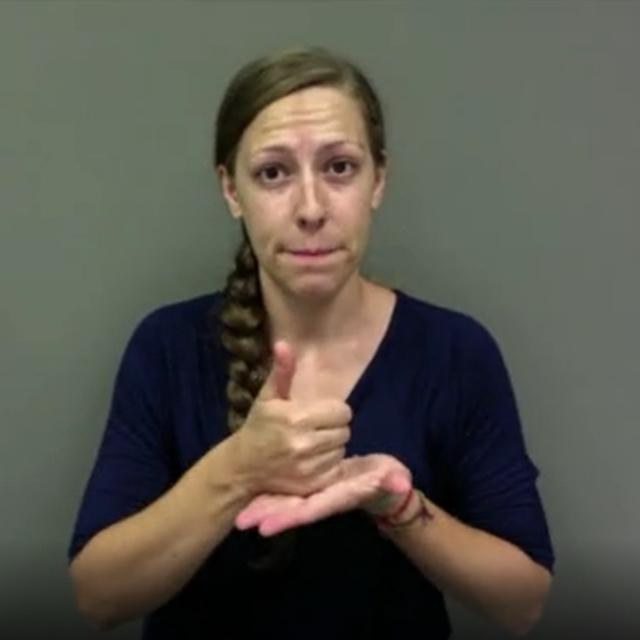help: (236, 342, 412, 536)
